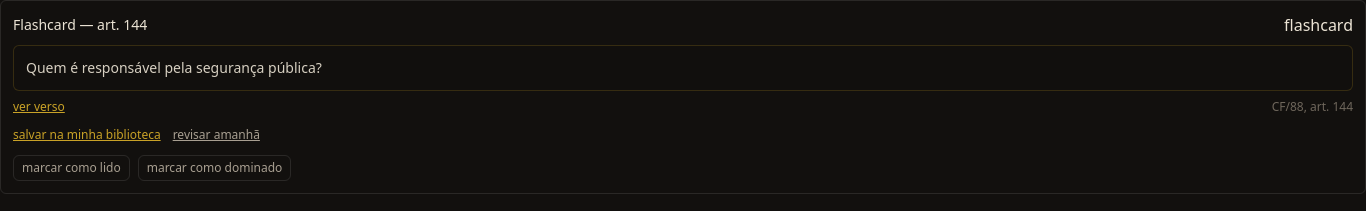
Test: CatalogFlashcard › mostra a frente e vira para o verso ao clicar
The image size is (1366, 211).
Expected: the button "Quem é responsável pela segurança pública?" is shown, [13, 45, 1353, 91]
Expected: the text "É dever do Estado, direito e responsabilidade de todos." is not shown
Step 1. Click the button "ver verso" → x=39, y=107, box [13, 99, 65, 115]
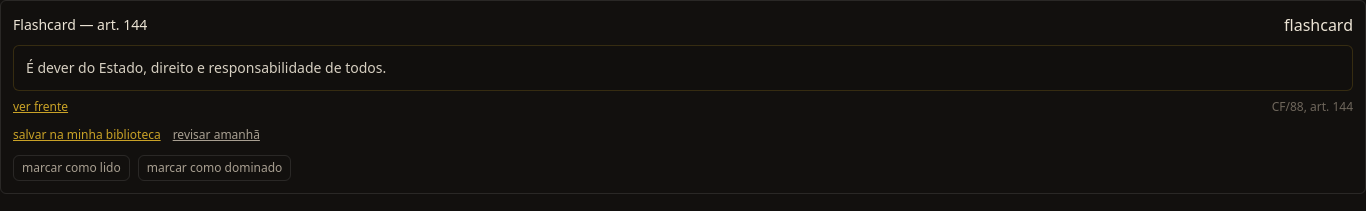
Expected: the button "É dever do Estado, direito e responsabilidade de todos." is shown, [13, 45, 1353, 91]
Expected: the button "Quem é responsável pela segurança pública?" is gone
